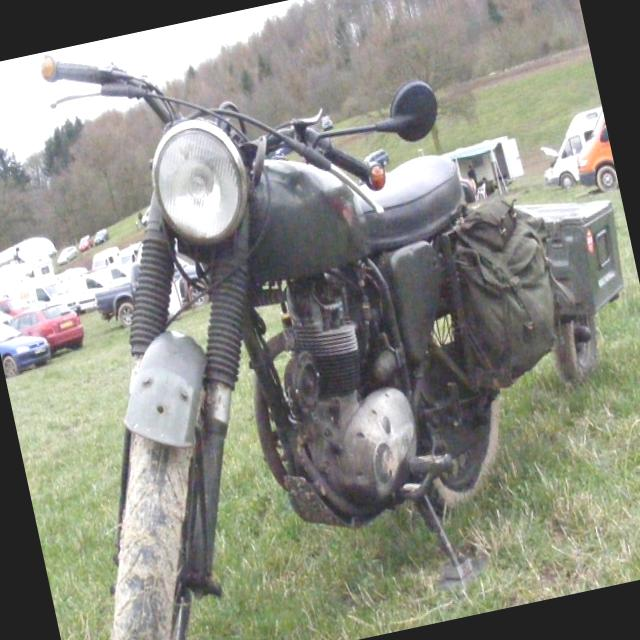Vehicle: (0, 0, 560, 640), (45, 104, 615, 313), (90, 248, 212, 332), (530, 106, 616, 192), (560, 84, 620, 197), (3, 296, 88, 366), (5, 272, 82, 324), (0, 311, 54, 378), (50, 238, 83, 268), (87, 244, 121, 271), (112, 243, 144, 266), (0, 294, 16, 336), (76, 233, 95, 252), (92, 226, 110, 244), (138, 206, 153, 226)
